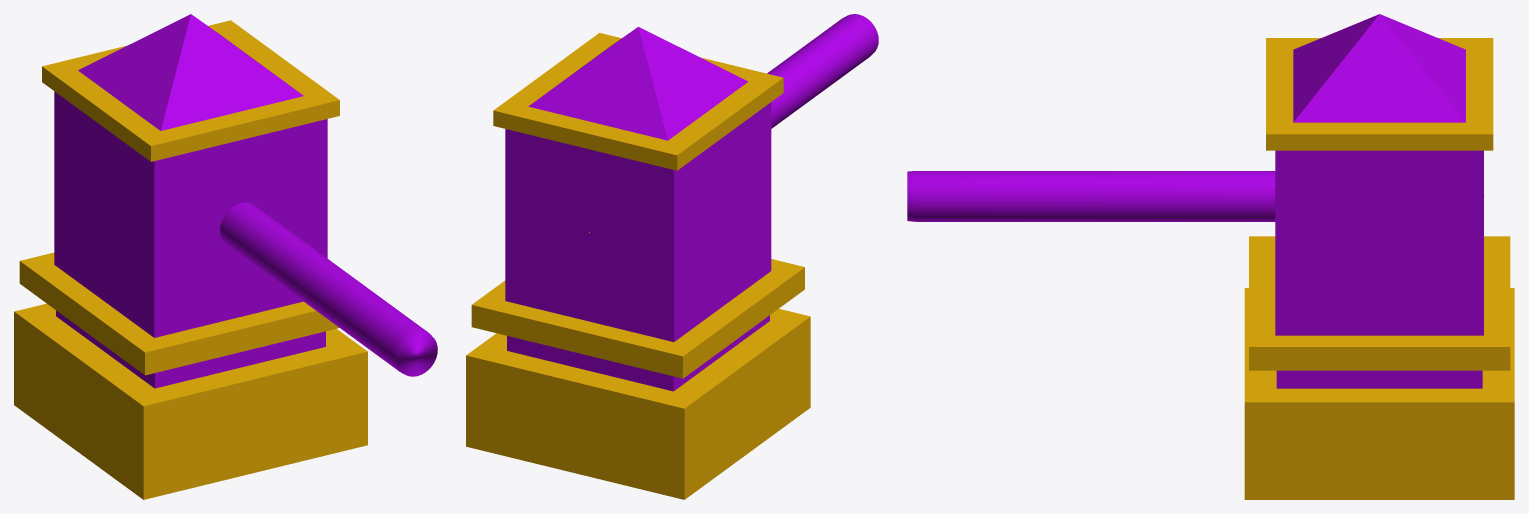
Rendered from blocker.fbx.
3 renders of one model, left to right at view 1: azimuth 30°, elevation 25°; view 2: azimuth 150°, elevation 25°; view 3: azimuth 270°, elevation 25°, orthographic. The views are drawn at different scales.
Parts seen in each view (by area): view 1: Cube, Cube.001, Cylinder; view 2: Cube, Cube.001, Cylinder; view 3: Cube, Cube.001, Cylinder.
Part boxes in pixels (x1,y1,x2,y2): Cube: (14, 20, 367, 499); Cube.001: (54, 14, 327, 388); Cylinder: (220, 202, 437, 376); Cube: (466, 33, 810, 499); Cube.001: (505, 27, 771, 391); Cylinder: (589, 14, 878, 233); Cube: (1244, 38, 1514, 499); Cube.001: (1275, 14, 1483, 388); Cylinder: (907, 171, 1484, 221).
Bounding box in the file's own units: 133 × 233 × 300.
